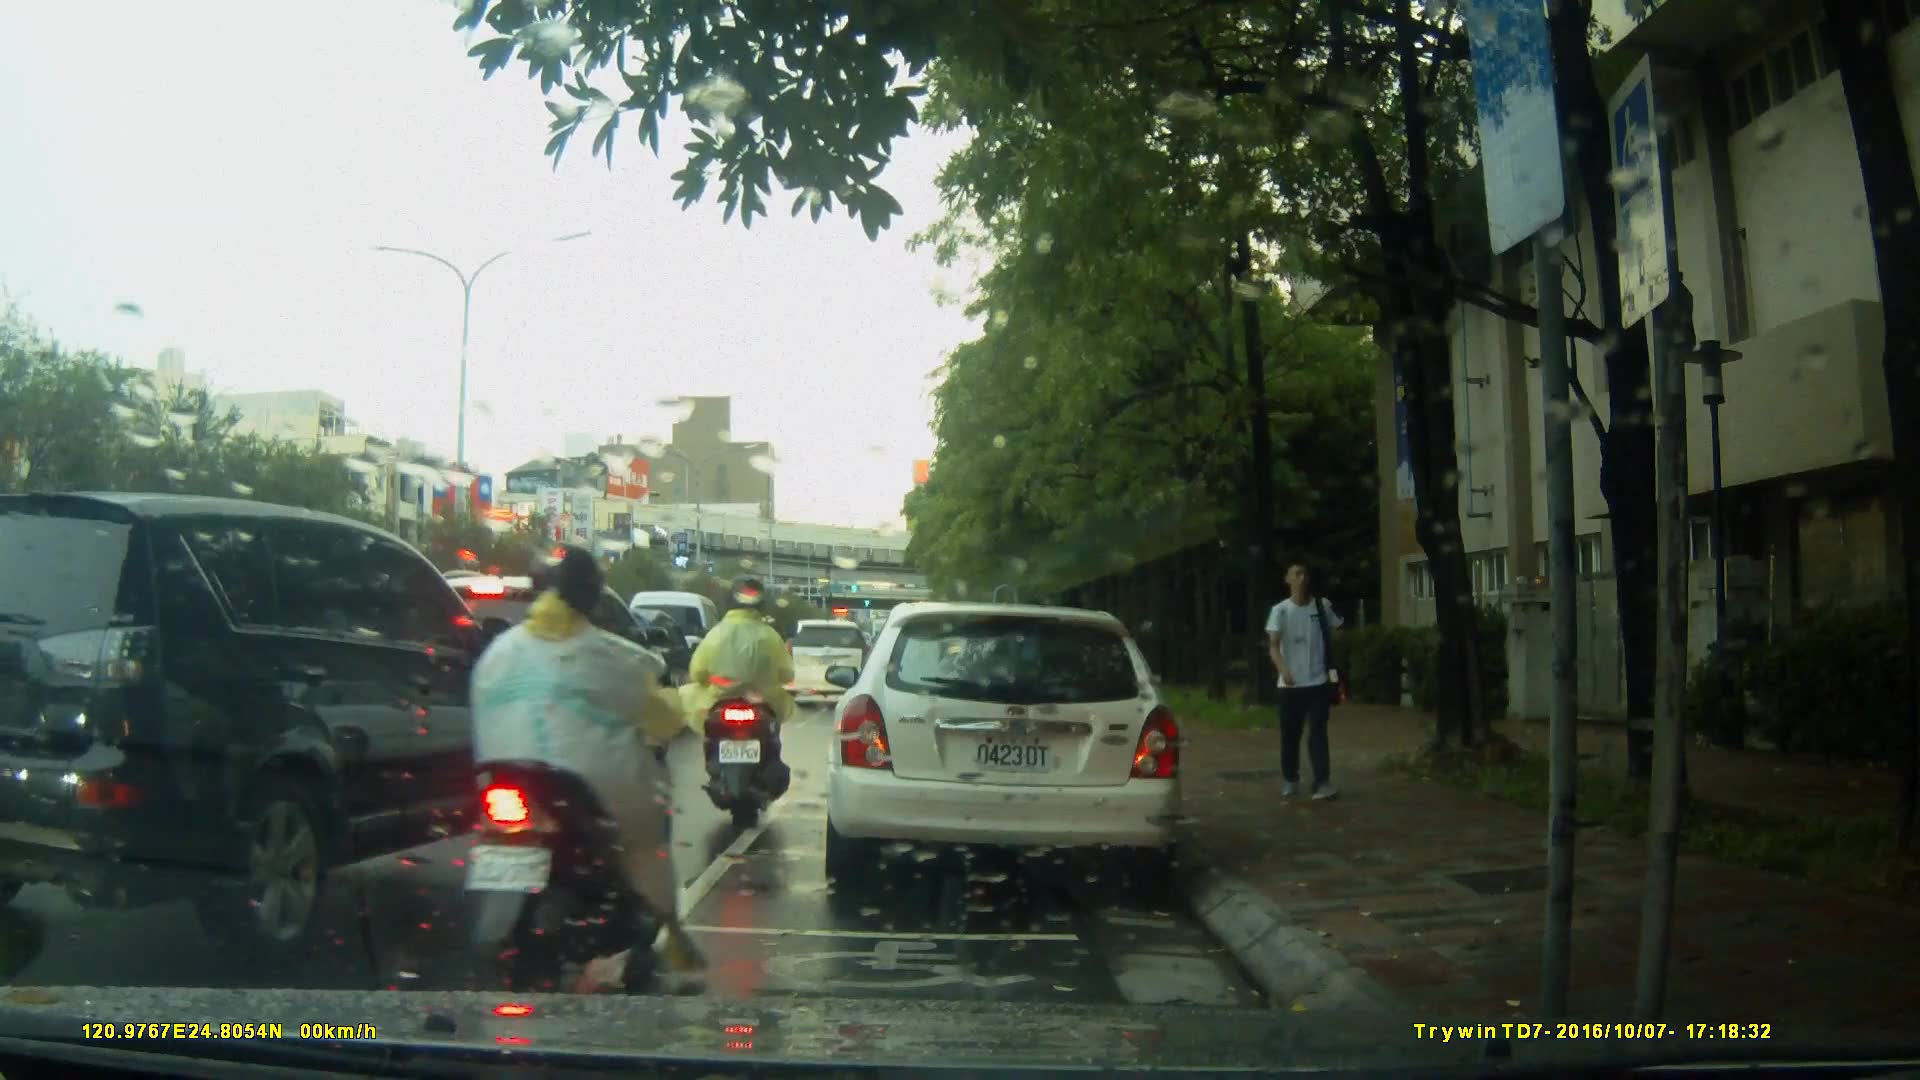pedestrian: (1245, 554, 1349, 811)
rider: (472, 539, 707, 994), (685, 581, 804, 828)
vehicle: (1, 487, 583, 958), (820, 602, 1188, 898), (375, 568, 676, 779), (620, 589, 737, 714), (770, 617, 878, 710)
